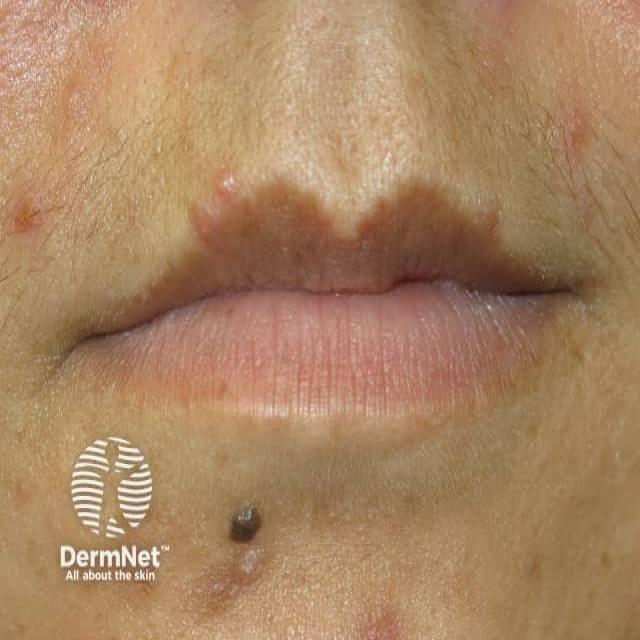Acne: (195, 497, 430, 640)
